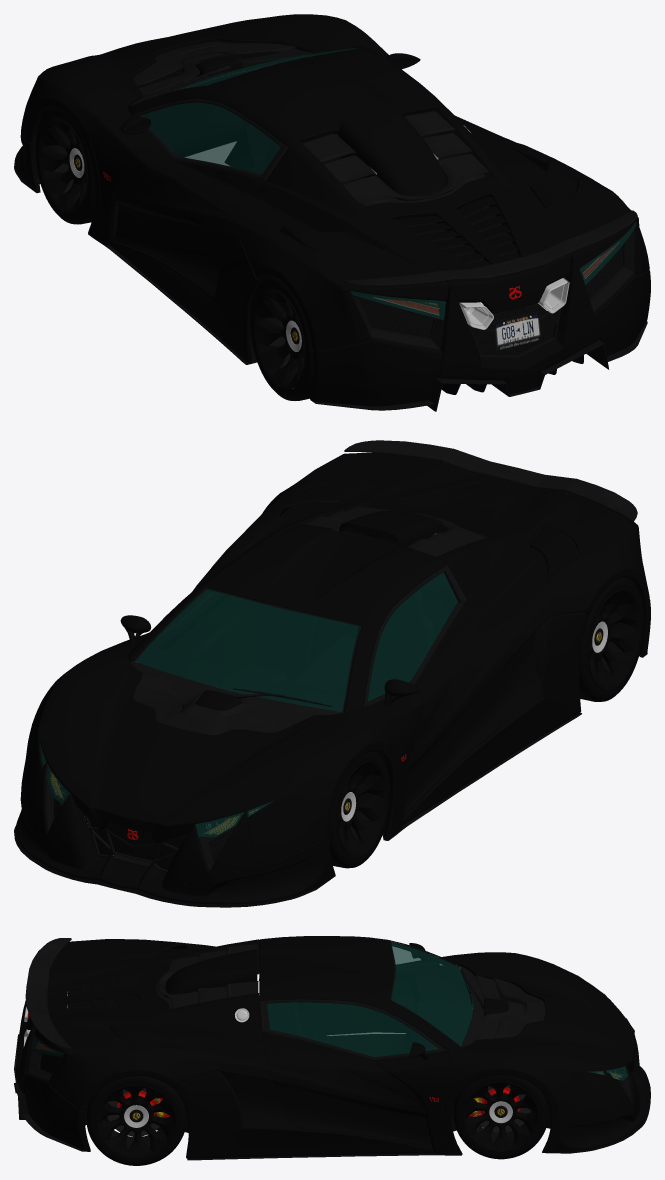
File: fictional-supercar-v12-goblin-0a20e4.glb
The picture shows the model from 3 angles, top to bottom: view 1: azimuth 30°, elevation 25°; view 2: azimuth 150°, elevation 25°; view 3: azimuth 270°, elevation 25°; orthographic projection. The views are drawn at different scales.
Parts seen in each view (by area): view 1: clearcoat_clearcoat_0, car_wheel_BL_car_body_0, car_glass_car_glass_0, car_wheel_BL_car_tire_0; view 2: clearcoat_clearcoat_0, car_wheel_BL_car_body_0, car_glass_car_glass_0, car_wheel_BL_car_tire_0; view 3: clearcoat_clearcoat_0, car_wheel_BL_car_body_0, car_glass_car_glass_0, car_wheel_BL_car_tire_0.
Part boxes in pixels (bbox=[...]): clearcoat_clearcoat_0: bbox=[15, 14, 650, 406]; car_wheel_BL_car_body_0: bbox=[14, 40, 647, 411]; car_glass_car_glass_0: bbox=[139, 48, 636, 319]; car_wheel_BL_car_tire_0: bbox=[35, 107, 313, 400]; clearcoat_clearcoat_0: bbox=[15, 453, 650, 904]; car_wheel_BL_car_body_0: bbox=[14, 440, 647, 907]; car_glass_car_glass_0: bbox=[40, 572, 457, 837]; car_wheel_BL_car_tire_0: bbox=[329, 577, 644, 868]; clearcoat_clearcoat_0: bbox=[16, 936, 649, 1158]; car_wheel_BL_car_body_0: bbox=[14, 938, 650, 1160]; car_glass_car_glass_0: bbox=[31, 942, 628, 1080]; car_wheel_BL_car_tire_0: bbox=[86, 1075, 548, 1165].
Size of what is drawn, in the model's own units: 0.0565 by 0.0301 by 0.1181.
4 materials, 2 textured.
